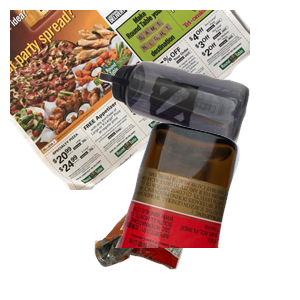glass: (113, 120, 300, 300)
paper: (10, 10, 250, 190)
plastic: (97, 59, 300, 197)
trash: (92, 174, 272, 300)
